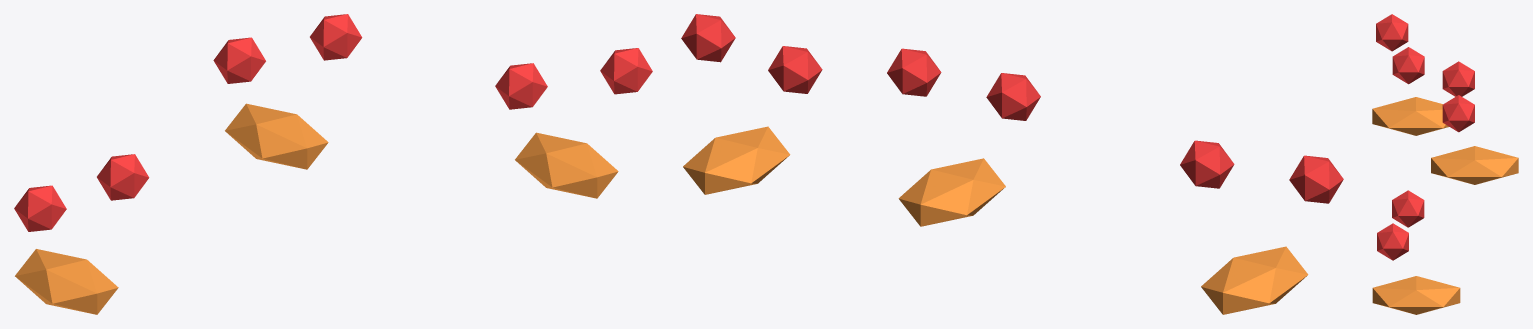
Rendered from CerberusRunsEyes.obj.
3 views of the same model, side by side, from view 1: azimuth 30°, elevation 25°; view 2: azimuth 150°, elevation 25°; view 3: azimuth 270°, elevation 25° (orthographic). The views are drawn at different scales.
Parts seen in each view (by area): view 1: CerberusRunsEyes; view 2: CerberusRunsEyes; view 3: CerberusRunsEyes.
Boxes of the visible parts, left/top/right/bottom form: CerberusRunsEyes: left=14, top=14, right=652, bottom=314; CerberusRunsEyes: left=681, top=14, right=1343, bottom=314; CerberusRunsEyes: left=1372, top=14, right=1518, bottom=314.
Bounding box in the file's own units: 5.46 × 1.61 × 1.55.
Materials: 1 (1 with a texture image).
